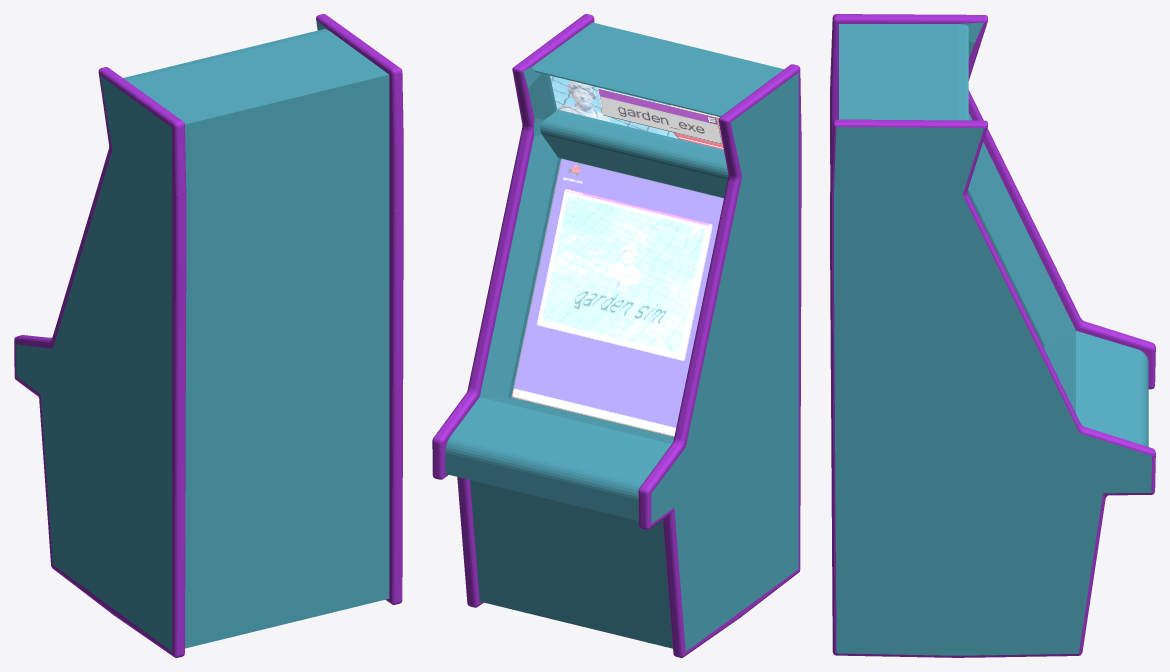
File: arcadeCabinet3.fbx
The picture shows the model from 3 angles, left to right: view 1: azimuth 30°, elevation 25°; view 2: azimuth 150°, elevation 25°; view 3: azimuth 270°, elevation 25°; orthographic projection. The views are drawn at different scales.
Parts seen in each view (by area): view 1: Cabinet.003; view 2: Cabinet.003; view 3: Cabinet.003.
Boxes of the visible parts, x1,y1,x2,y2 form: Cabinet.003: (14, 14, 403, 657); Cabinet.003: (432, 14, 801, 657); Cabinet.003: (830, 14, 1155, 657).
Size of the model in its own units: 109 by 244 by 135.
